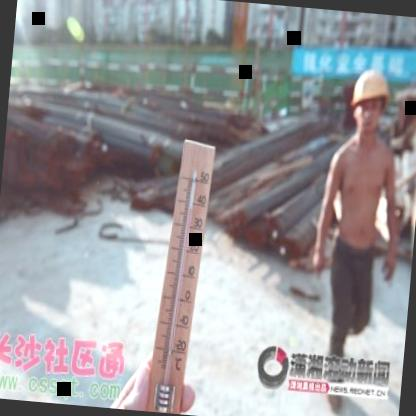helmet: (346, 62, 397, 141)
